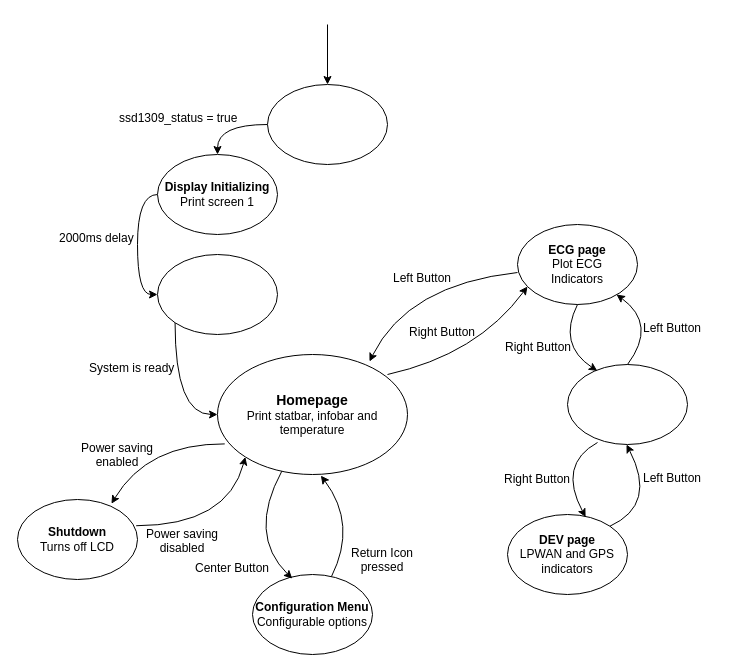
Image size: 735x672. Some labels were removed from this diagram. Here are the shapes that lost their labels. From the top down, the centre of each, then its label:
At [327,124]: "Driver Initializing Call nrf_gfx_init".
At [217,294]: "Dysplay Initializing Print screen 2".
At [627,404]: "Temperature page Plot Temperature Indicators".
